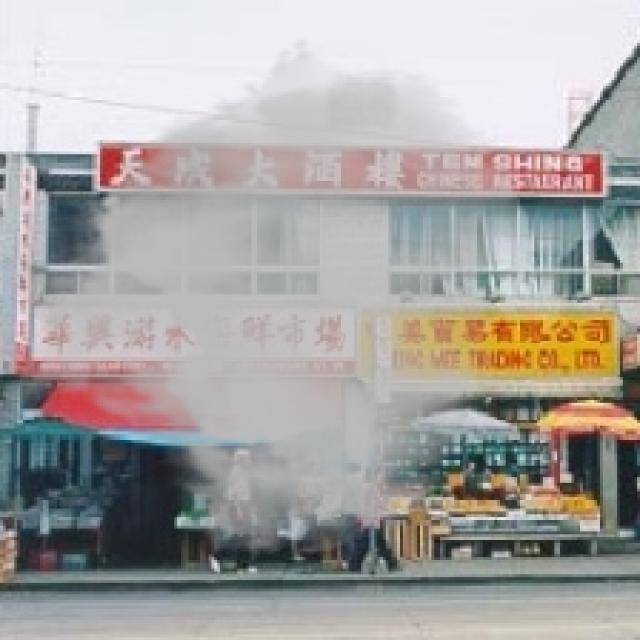smoke: (3, 37, 528, 560)
